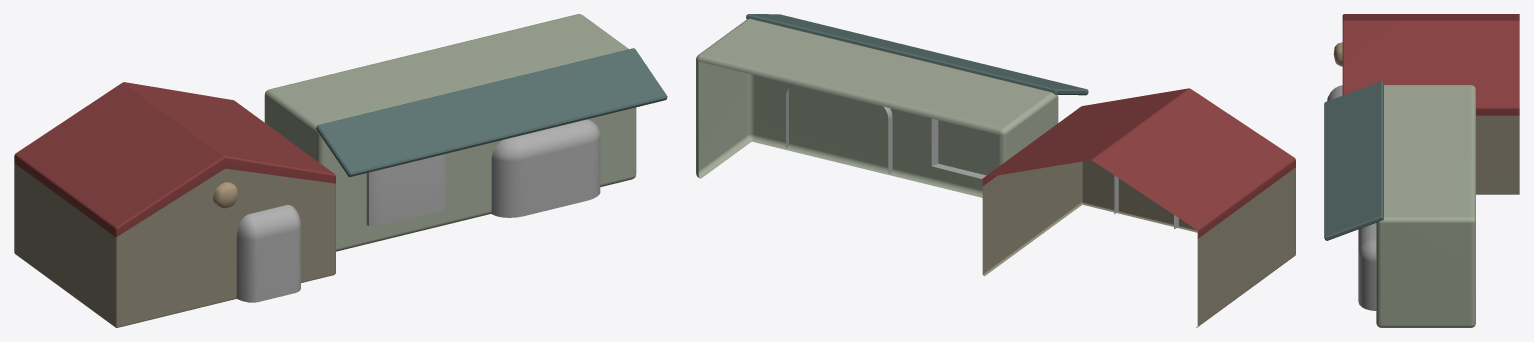
The model's file is home 2.fbx.
3 views of the same model, side by side, from view 1: azimuth 30°, elevation 25°; view 2: azimuth 150°, elevation 25°; view 3: azimuth 270°, elevation 25° (orthographic). The views are drawn at different scales.
Visible parts, largest first — view 1: polySurface3543; view 2: polySurface3543; view 3: polySurface3543.
Boxes of the visible parts, bbox=[...] form: polySurface3543: bbox=[14, 14, 667, 327]; polySurface3543: bbox=[696, 14, 1295, 327]; polySurface3543: bbox=[1324, 14, 1519, 327].
Bounding box in the file's own units: 146 × 37.69 × 52.45.
